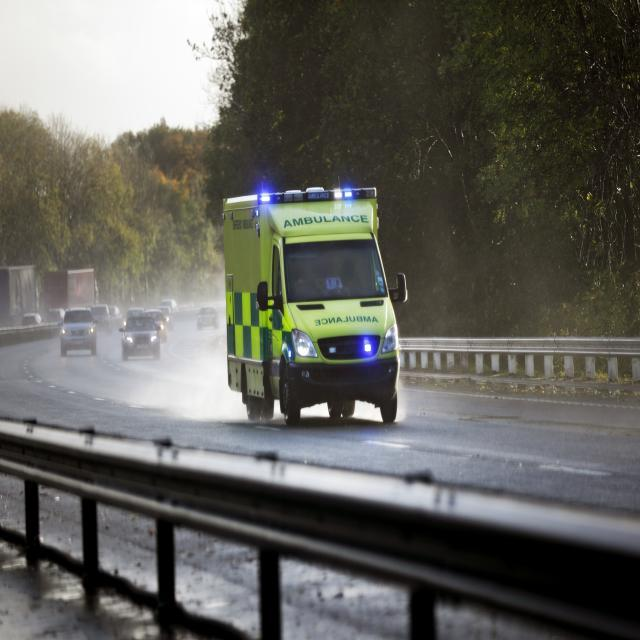emergency-vehicle: (206, 163, 431, 439)
